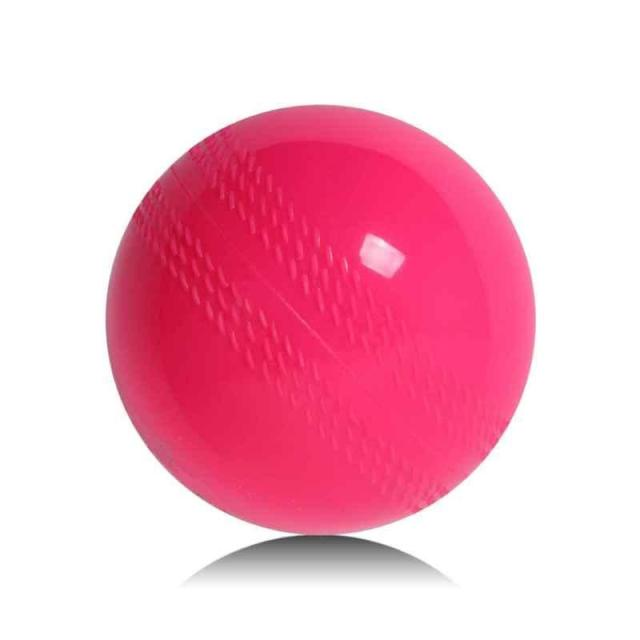ball: (104, 102, 538, 538)
